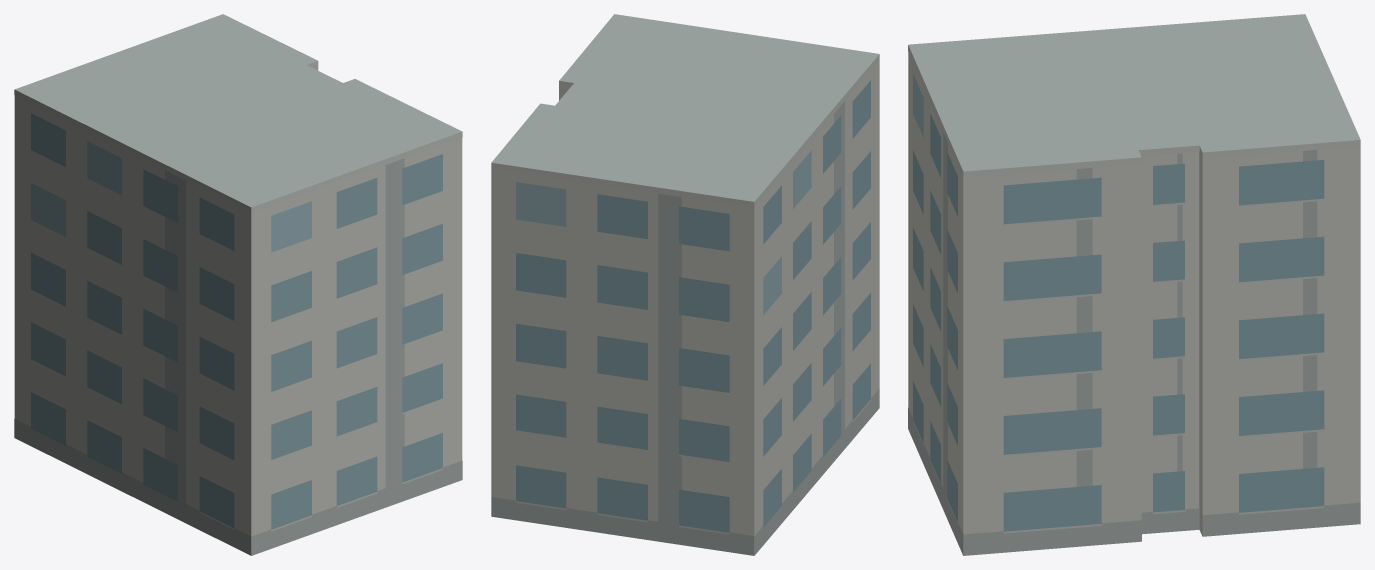
File: survey-upis-32843794.glb
3 renders of one model, left to right at view 1: azimuth 30°, elevation 25°; view 2: azimuth 150°, elevation 25°; view 3: azimuth 270°, elevation 25°, orthographic. The views are drawn at different scales.
Parts seen in each view (by area): view 1: survey-upis-32843794.tmp; view 2: survey-upis-32843794.tmp; view 3: survey-upis-32843794.tmp.
Boxes of the visible parts, left/top/right/bottom form: survey-upis-32843794.tmp: left=14, top=14, right=462, bottom=555; survey-upis-32843794.tmp: left=491, top=14, right=879, bottom=555; survey-upis-32843794.tmp: left=908, top=14, right=1360, bottom=555.
Size of the model in its own units: 12.59 by 14.3 by 15.28.
